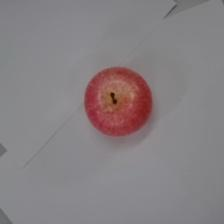red: (80, 63, 156, 142)
